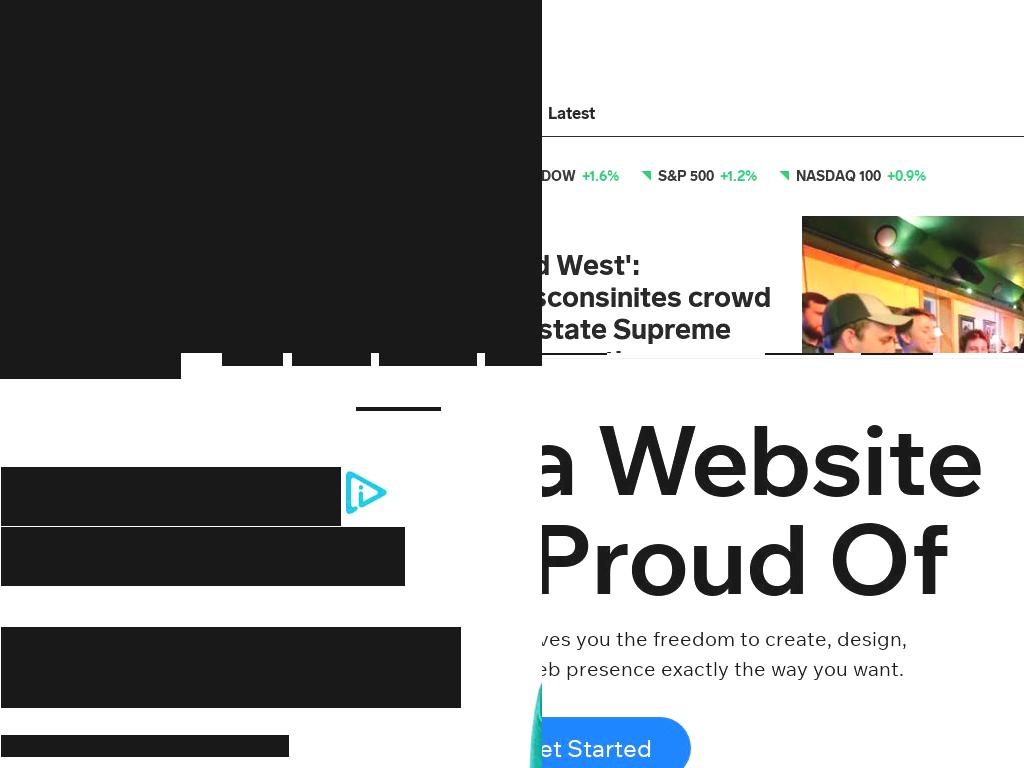button: (542, 717, 691, 768), (92, 0, 205, 47), (779, 167, 927, 186), (641, 167, 758, 186), (542, 167, 620, 186), (379, 353, 477, 366), (292, 353, 371, 366), (222, 353, 283, 366), (356, 407, 441, 411)
heading: (542, 398, 984, 618), (1, 527, 405, 586), (542, 249, 771, 353), (1, 467, 341, 526), (542, 152, 1024, 163), (346, 470, 389, 515), (796, 167, 881, 186), (658, 167, 714, 186), (887, 167, 927, 186), (582, 167, 620, 186), (720, 167, 758, 186), (542, 167, 576, 186)
image: (0, 45, 542, 353), (0, 234, 164, 343), (0, 353, 181, 379)
link: (14, 735, 289, 757)
text: (0, 0, 542, 353), (1, 627, 461, 708), (542, 626, 907, 681), (542, 731, 652, 765), (547, 104, 598, 123), (1, 735, 15, 757)
